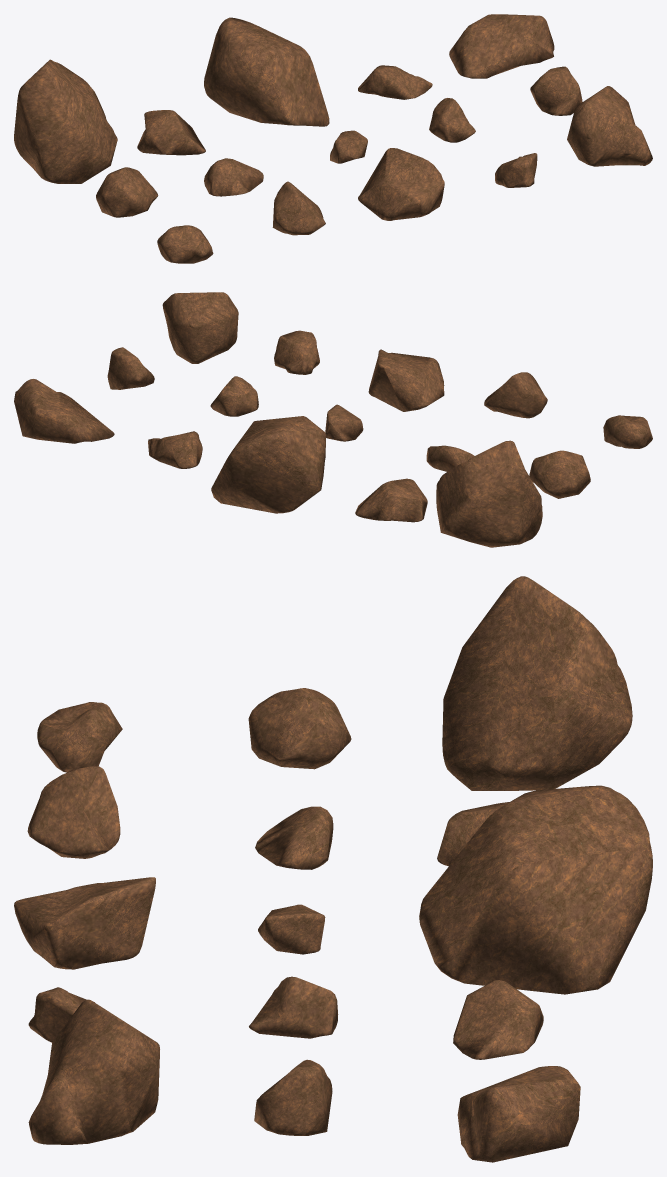
Rendered from MarsRocks.fbx.
3 renders of one model, top to bottom at view 1: azimuth 30°, elevation 25°; view 2: azimuth 150°, elevation 25°; view 3: azimuth 270°, elevation 25°, orthographic. The views are drawn at different scales.
Visible parts, largest first — view 1: Mars_rock.013, Mars_rock.011, Mars_rock.015, Mars_rock.005, Mars_rock.003, Mars_rock.012, Mars_rock.006, Mars_rock.002, Mars_rock.010, Mars_rock.014, Mars_rock.007, Mars_rock.001 (+3 smaller); view 2: Mars_rock.011, Mars_rock.013, Mars_rock.005, Mars_rock.015, Mars_rock.003, Mars_rock.012, Mars_rock.006, Mars_rock.002, Mars_rock.004, Mars_rock.014, Mars_rock.010, Mars_rock.001 (+3 smaller); view 3: Mars_rock.013, Mars_rock.011, Mars_rock.005, Mars_rock.003, Mars_rock.015, Mars_rock.002, Mars_rock.006, Mars_rock.014, Mars_rock.010, Mars_rock.001, Mars_rock.009, Mars_rock.007 (+3 smaller).
Part boxes in pixels (<box>): Mars_rock.013: <box>204,17,329,126</box>; Mars_rock.011: <box>14,59,117,183</box>; Mars_rock.015: <box>449,14,554,78</box>; Mars_rock.005: <box>567,86,652,166</box>; Mars_rock.003: <box>358,148,444,220</box>; Mars_rock.012: <box>137,110,205,155</box>; Mars_rock.006: <box>96,167,158,217</box>; Mars_rock.002: <box>272,181,325,235</box>; Mars_rock.010: <box>530,66,582,115</box>; Mars_rock.014: <box>358,65,432,99</box>; Mars_rock.007: <box>204,158,263,196</box>; Mars_rock.001: <box>157,225,213,263</box>; Mars_rock.011: <box>436,440,542,547</box>; Mars_rock.013: <box>211,416,326,513</box>; Mars_rock.005: <box>162,292,238,363</box>; Mars_rock.015: <box>14,379,114,443</box>; Mars_rock.003: <box>368,349,444,411</box>; Mars_rock.012: <box>355,478,427,522</box>; Mars_rock.006: <box>529,450,590,498</box>; Mars_rock.002: <box>484,372,547,418</box>; Mars_rock.004: <box>274,330,319,374</box>; Mars_rock.014: <box>148,431,202,468</box>; Mars_rock.010: <box>107,347,154,389</box>; Mars_rock.001: <box>603,415,652,448</box>; Mars_rock.013: <box>419,785,652,994</box>; Mars_rock.011: <box>442,576,632,790</box>; Mars_rock.005: <box>28,999,159,1144</box>; Mars_rock.003: <box>14,877,155,969</box>; Mars_rock.015: <box>457,1066,580,1162</box>; Mars_rock.002: <box>27,766,120,858</box>; Mars_rock.006: <box>248,688,351,769</box>; Mars_rock.014: <box>453,980,543,1059</box>; Mars_rock.010: <box>254,1059,332,1135</box>; Mars_rock.001: <box>37,702,122,772</box>; Mars_rock.009: <box>249,976,338,1038</box>; Mars_rock.007: <box>255,806,333,869</box>.
Size of the model in its own units: 14.41 by 2.93 by 8.94.
Materials: 1 (1 with a texture image).
